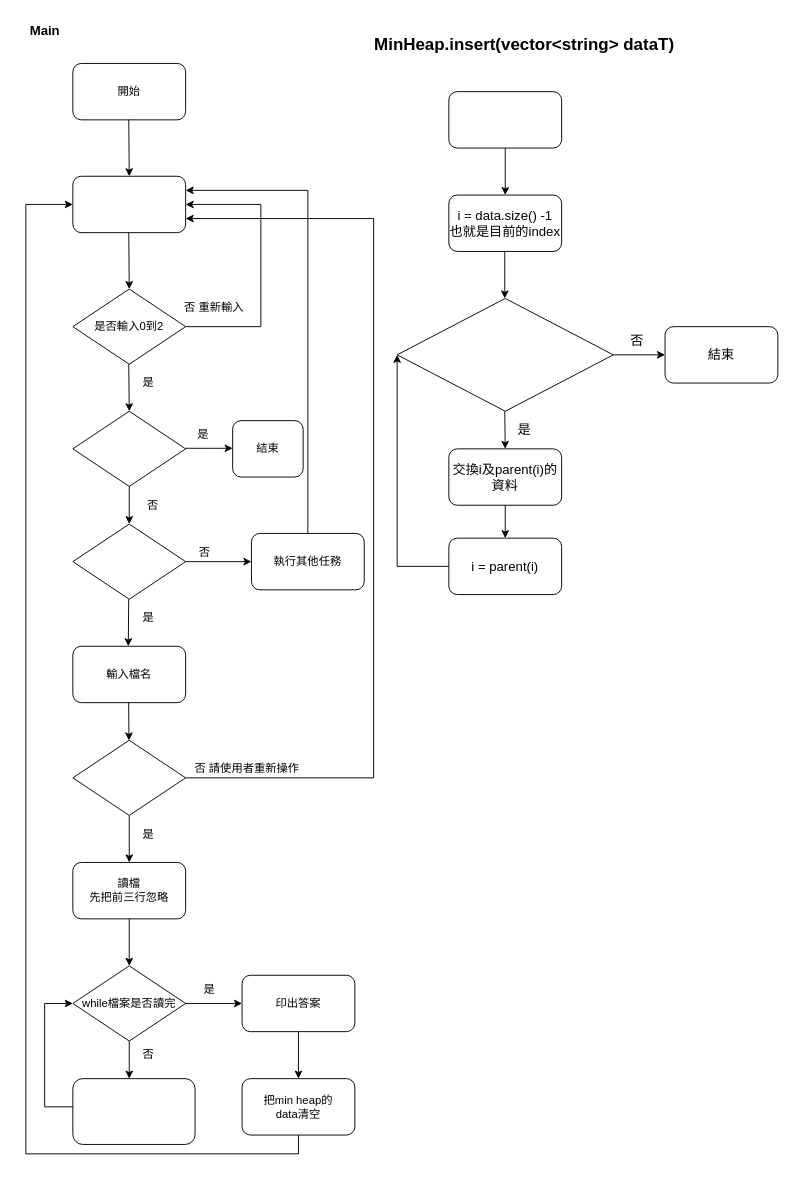
This 794x1178 diagram has some shape labels left out. Each missing label, with the box of its shape:
while i !=0 且 第i個資料的畢業人數小於i的父節點的畢業人數: (396, 298, 613, 411)
使用者輸入0到2之間的數字: (72, 175, 186, 233)
將dataT放到data的最尾巴: (448, 91, 562, 148)
是否存在該檔案: (72, 739, 186, 815)
是否輸入0: (72, 410, 186, 486)
是否輸入1: (72, 523, 186, 599)
讀完一行後 加上編號 執行insert() 把該行插入min heap中: (72, 1078, 195, 1144)
